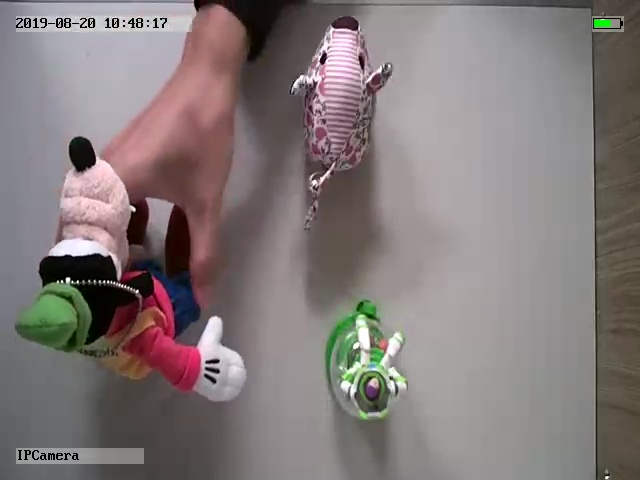buzz: (320, 296, 410, 424)
goofy: (14, 134, 249, 403)
pig: (290, 16, 394, 230)
